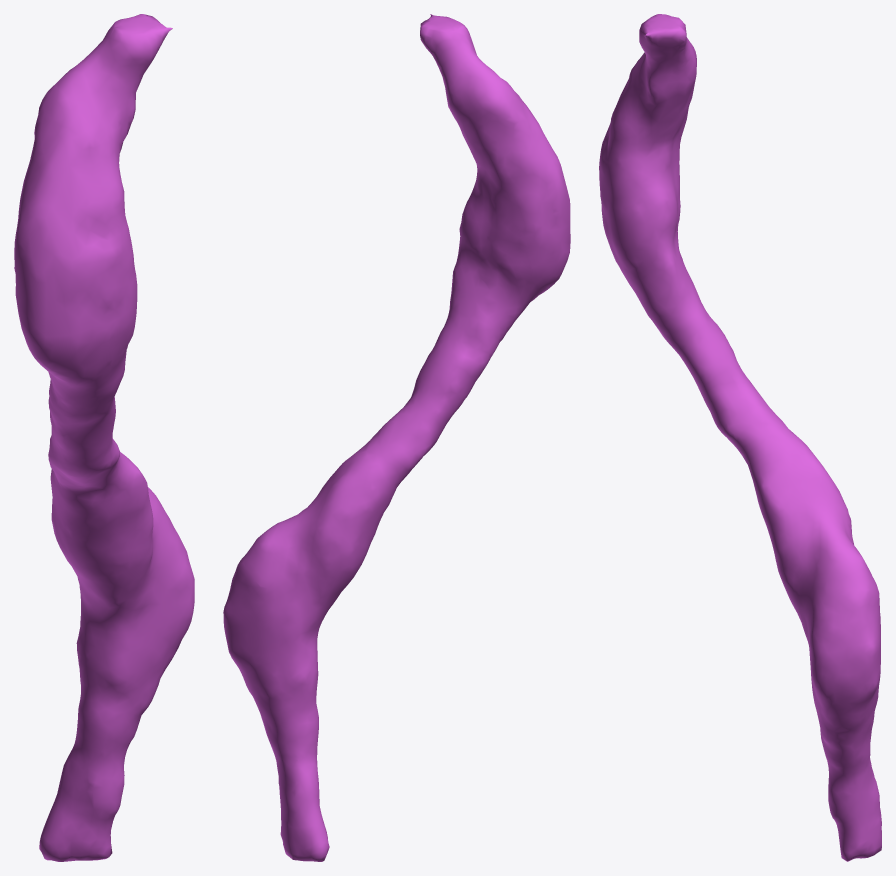
The picture shows the model from 3 angles, left to right: view 1: azimuth 30°, elevation 25°; view 2: azimuth 150°, elevation 25°; view 3: azimuth 270°, elevation 25°; orthographic projection. The views are drawn at different scales.
Parts seen in each view (by area): view 1: Polygonal_Model_12_Triangles_0; view 2: Polygonal_Model_12_Triangles_0; view 3: Polygonal_Model_12_Triangles_0.
Part boxes in pixels (x1,y1,x2,y2): Polygonal_Model_12_Triangles_0: (14,14,194,861); Polygonal_Model_12_Triangles_0: (223,14,570,861); Polygonal_Model_12_Triangles_0: (599,14,881,861).
Bounding box in the file's own units: 0.8283 × 2.6 × 0.8232.
